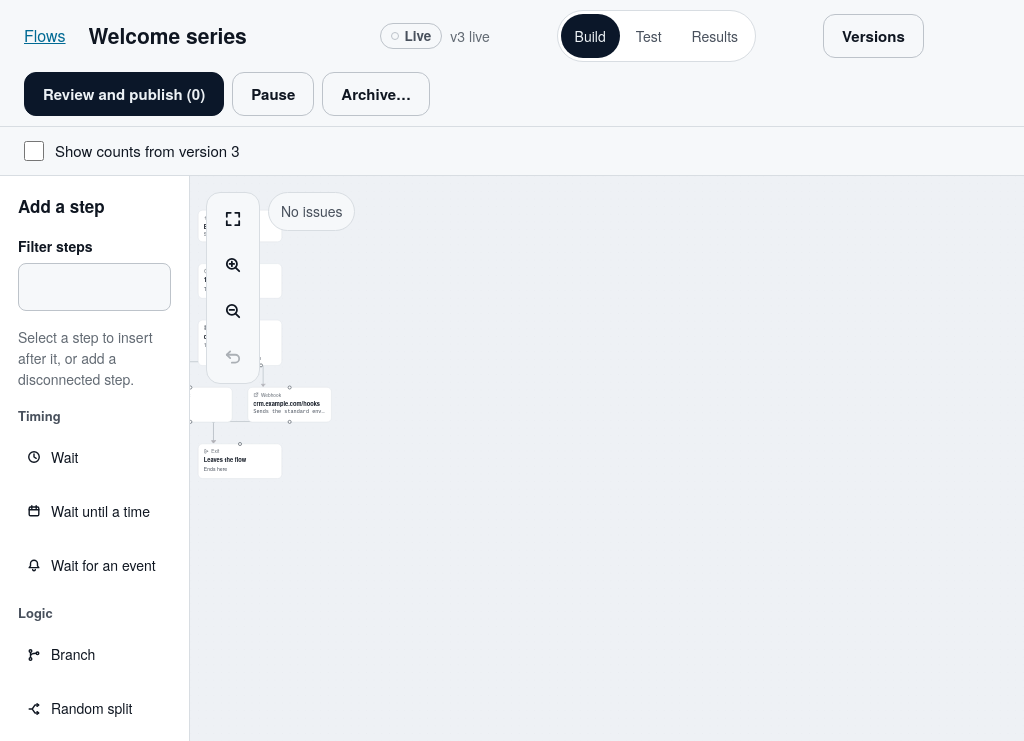
publish dialog › previews a valid publish: the version, who enters and who stays on older versions
Click the button "Review and publish (0)": click(124, 94) [24, 72, 224, 116]
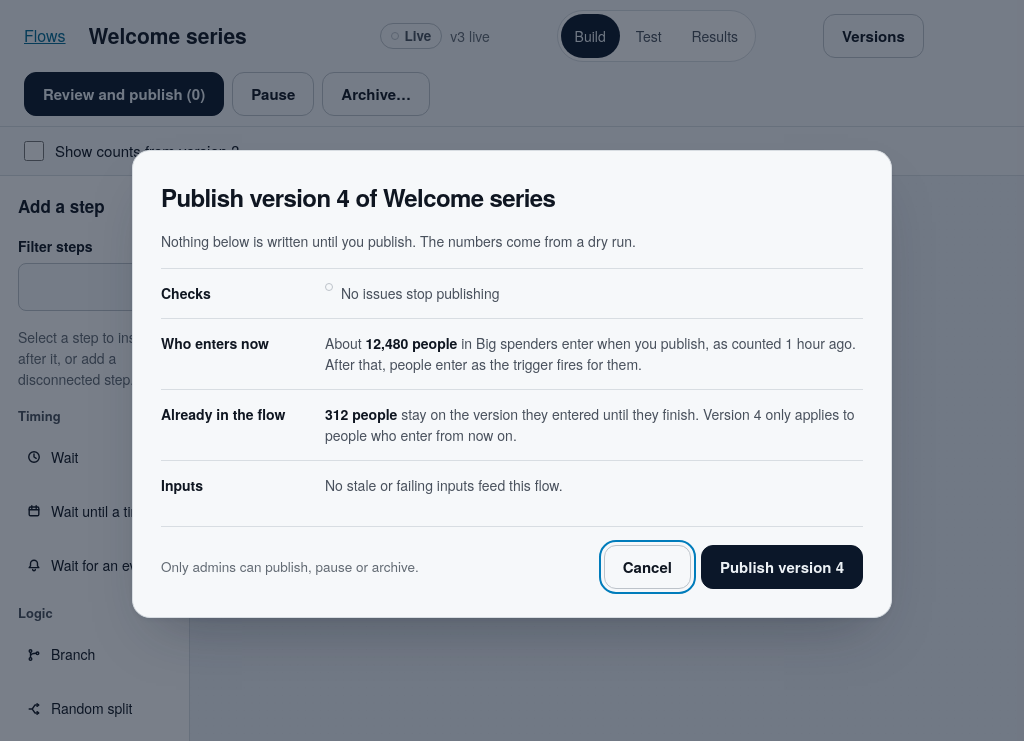
Expected: the heading "Publish version 4 of Welcome series" is shown, [161, 180, 555, 214]
Expected: the text "No issues stop publishing" is shown, [341, 283, 500, 304]
Expected: the text "12,480 people" is shown, [366, 333, 457, 353]
